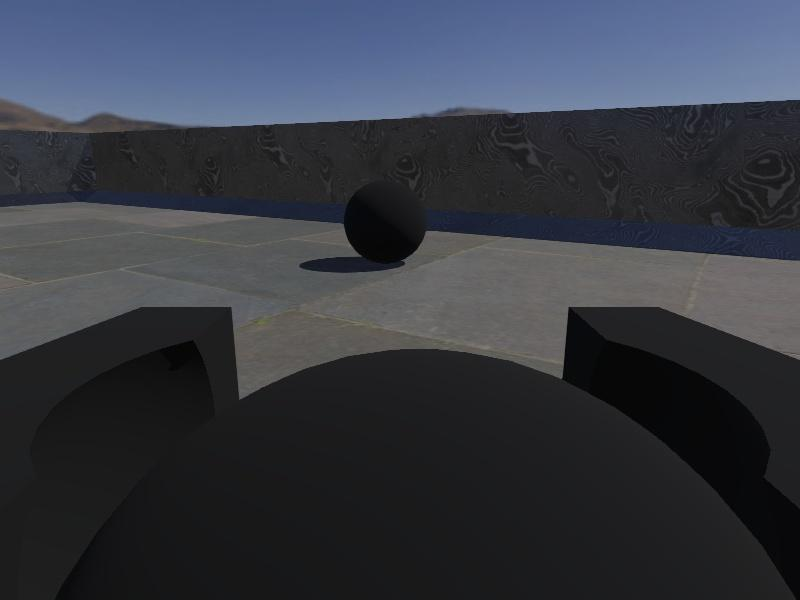black ball: (343, 177, 429, 263)
